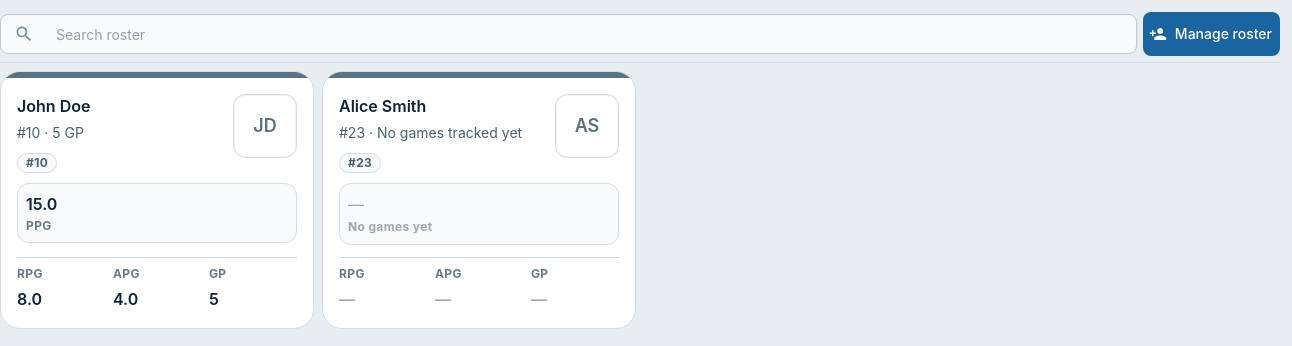
Scenario: RosterTab › renders no results empty state when search matches nothing
In the field with placeholder "Search roster": (589, 34) x1=42 y1=14 x2=1137 y2=54, type "NonexistentPlayer"
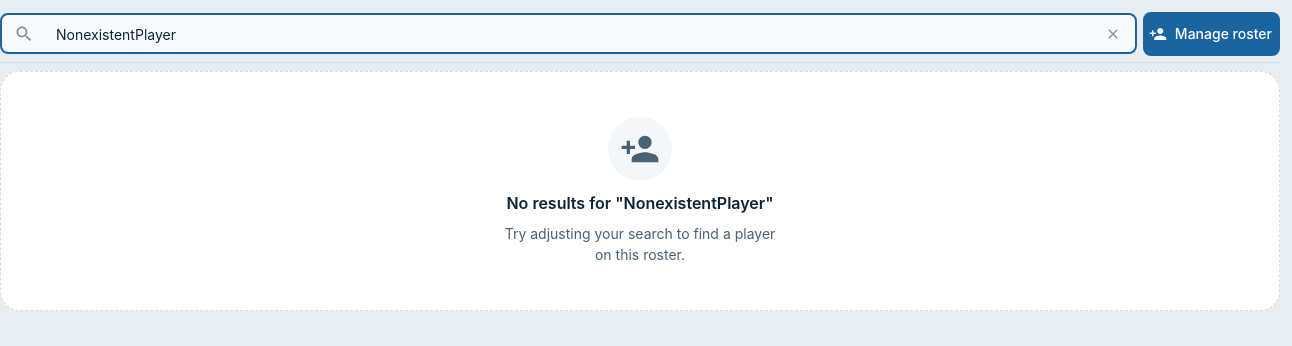
Check: the text "No results for \"NonexistentPlayer\"" is shown, box x1=506 y1=191 x2=774 y2=217
Check: the text "Try adjusting your search to find a player on this roster." is shown, box x1=500 y1=223 x2=780 y2=265
